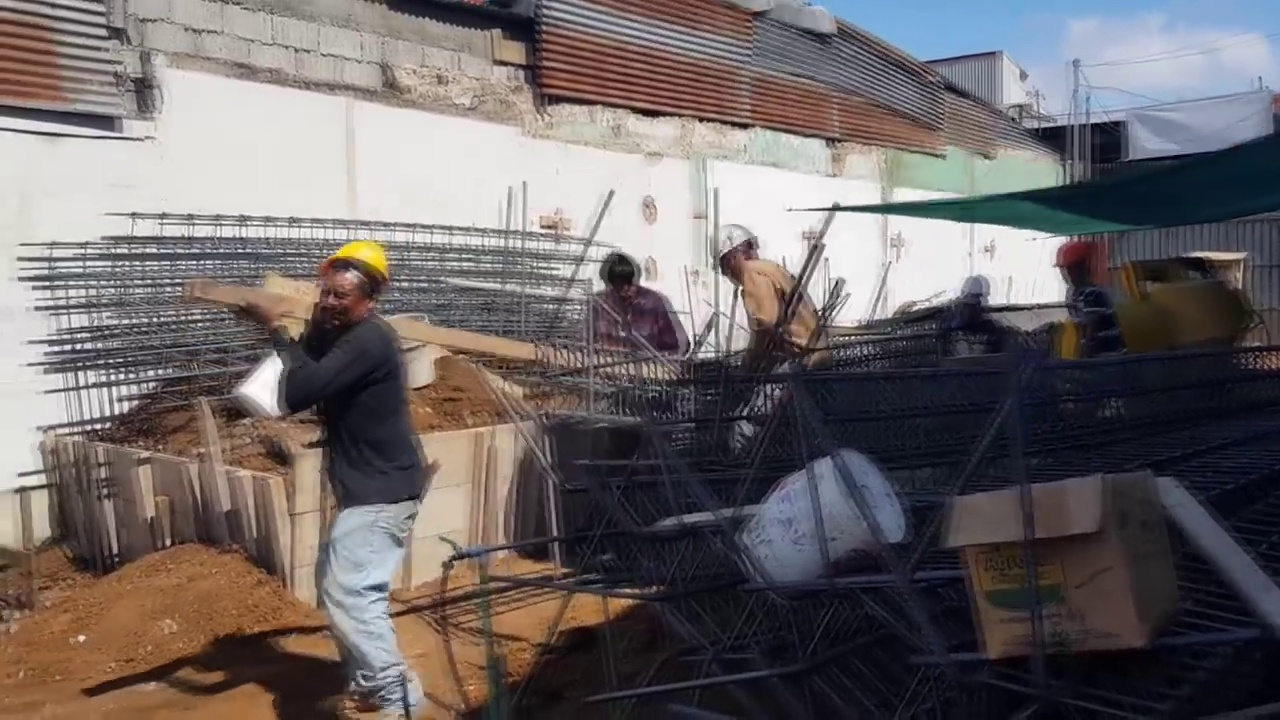helmet: (315, 238, 390, 290), (704, 223, 760, 268), (1050, 237, 1106, 270), (960, 276, 992, 298)
helmet-off: (599, 255, 640, 309)
helmet-on: (308, 236, 392, 338), (703, 223, 760, 276), (1054, 239, 1105, 294), (959, 277, 993, 309)
person: (233, 235, 416, 693), (703, 223, 841, 398), (575, 250, 684, 402), (1052, 238, 1122, 366), (949, 278, 1002, 362)
